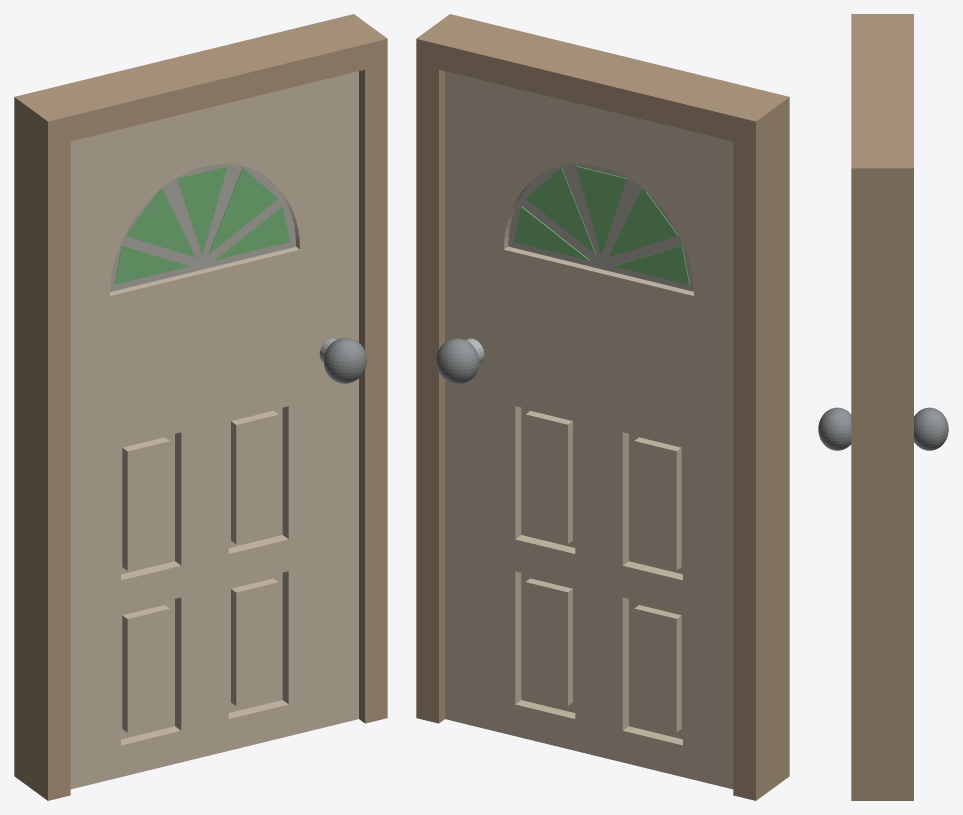
File: door.glb
3 renders of one model, left to right at view 1: azimuth 30°, elevation 25°; view 2: azimuth 150°, elevation 25°; view 3: azimuth 270°, elevation 25°, orthographic. The views are drawn at different scales.
Parts seen in each view (by area): view 1: Mesh_Mesh_head_geo.001_lambert2SG.001; view 2: Mesh_Mesh_head_geo.001_lambert2SG.001; view 3: Mesh_Mesh_head_geo.001_lambert2SG.001.
Part boxes in pixels (<box>): Mesh_Mesh_head_geo.001_lambert2SG.001: <box>14,14,387,800</box>; Mesh_Mesh_head_geo.001_lambert2SG.001: <box>416,14,789,800</box>; Mesh_Mesh_head_geo.001_lambert2SG.001: <box>818,14,948,800</box>.
Size of the model in its own units: 0.056 by 0.107 by 0.02.
